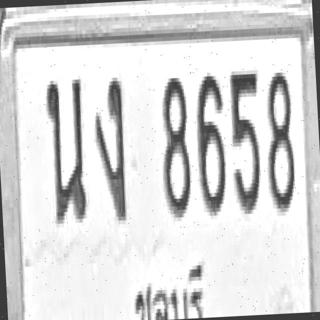A07: (92, 74, 129, 222)
A25: (44, 76, 88, 224)
N05: (228, 66, 264, 215)
N06: (194, 72, 228, 216)
N08: (158, 74, 192, 218), (264, 68, 296, 212)
P13: (132, 261, 210, 320)
